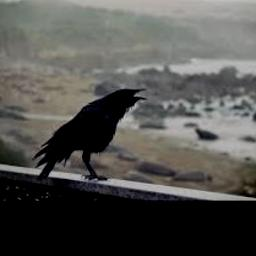Crow: (32, 86, 148, 182)
